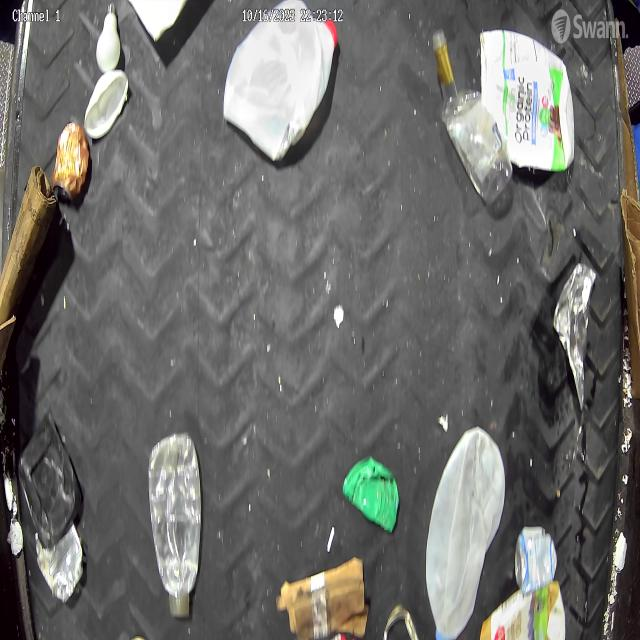can: (36, 522, 86, 602), (51, 120, 90, 204), (516, 524, 559, 594)
milk_jug: (223, 0, 337, 161), (426, 428, 504, 640)
non_white_jug: (479, 29, 576, 172)
plastic_bottle: (432, 28, 512, 205), (147, 432, 203, 624)
